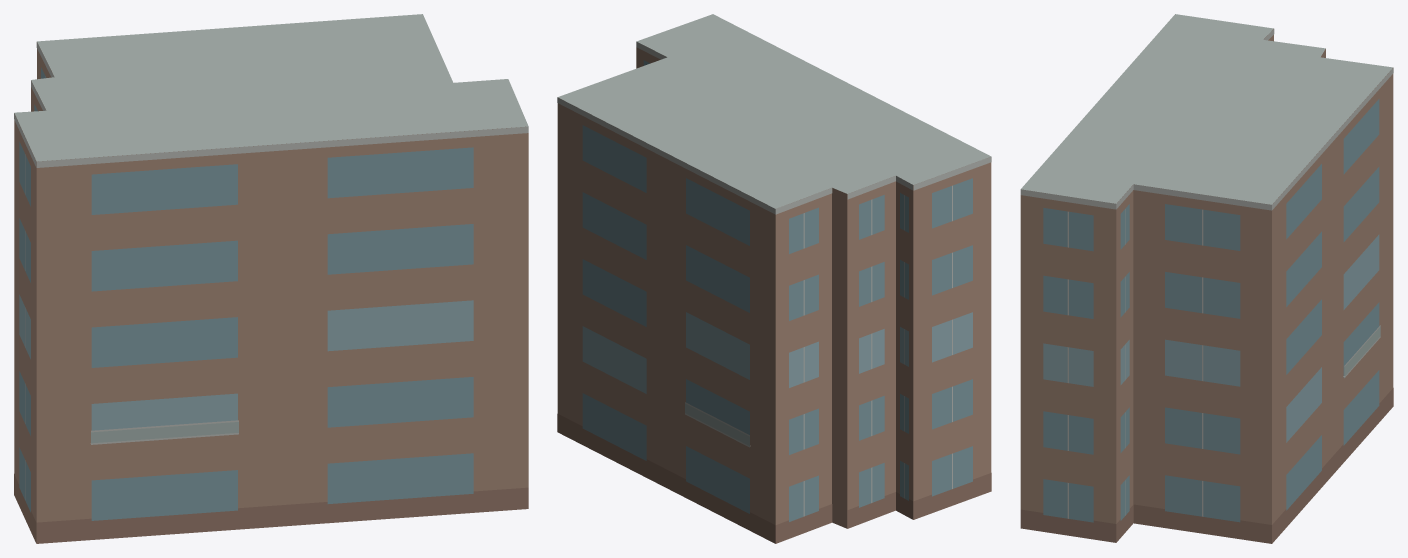
File: survey-upis-32883188.glb
The picture shows the model from 3 angles, left to right: view 1: azimuth 30°, elevation 25°; view 2: azimuth 150°, elevation 25°; view 3: azimuth 270°, elevation 25°; orthographic projection. The views are drawn at different scales.
Visible parts, largest first — view 1: survey-upis-32883188.tmp; view 2: survey-upis-32883188.tmp; view 3: survey-upis-32883188.tmp.
Boxes of the visible parts, x1,y1,x2,y2 form: survey-upis-32883188.tmp: (14,14,528,543); survey-upis-32883188.tmp: (557,14,991,543); survey-upis-32883188.tmp: (1020,14,1393,543).
Bounding box in the file's own units: 17.27 × 14.3 × 14.26.
